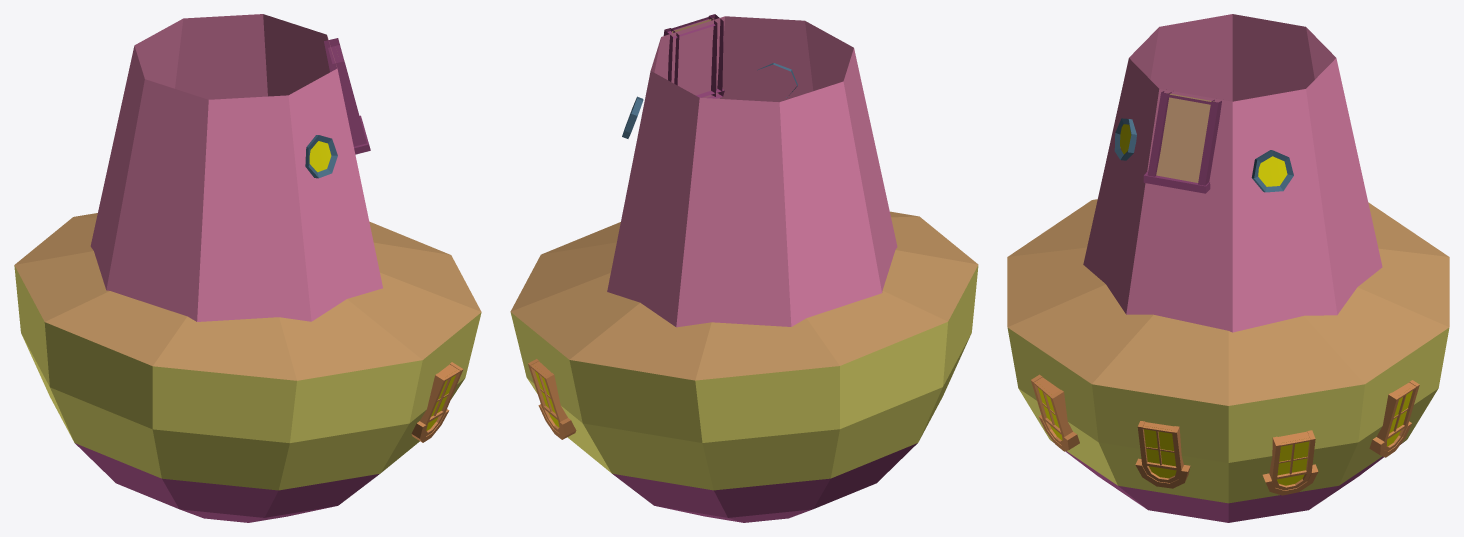
File: building 3.fbx
The picture shows the model from 3 angles, left to right: view 1: azimuth 30°, elevation 25°; view 2: azimuth 150°, elevation 25°; view 3: azimuth 270°, elevation 25°; orthographic projection.
Parts seen in each view (by area): view 1: Hansel:polySurface453; view 2: Hansel:polySurface453; view 3: Hansel:polySurface453.
Boxes of the visible parts, box(x1,y1,x2,y2) form: Hansel:polySurface453: box(14, 14, 481, 522); Hansel:polySurface453: box(510, 14, 978, 522); Hansel:polySurface453: box(1007, 14, 1449, 522).
Bounding box in the file's own units: 1.68 × 1.78 × 1.61.
